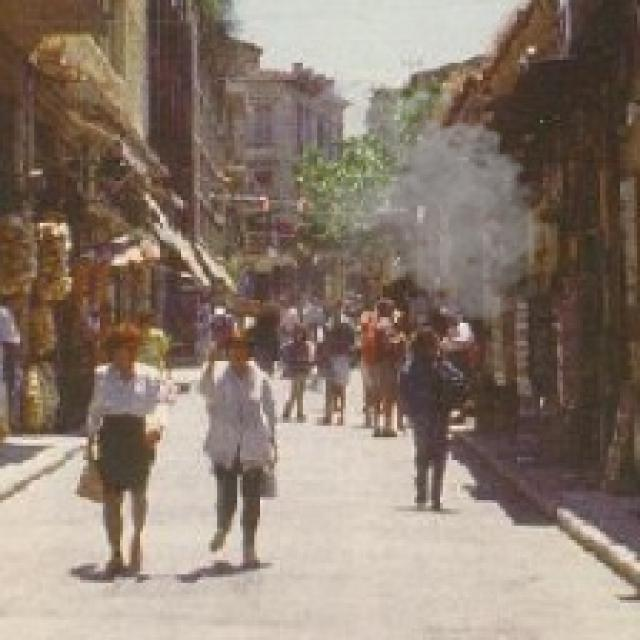smoke: (280, 72, 563, 328)
